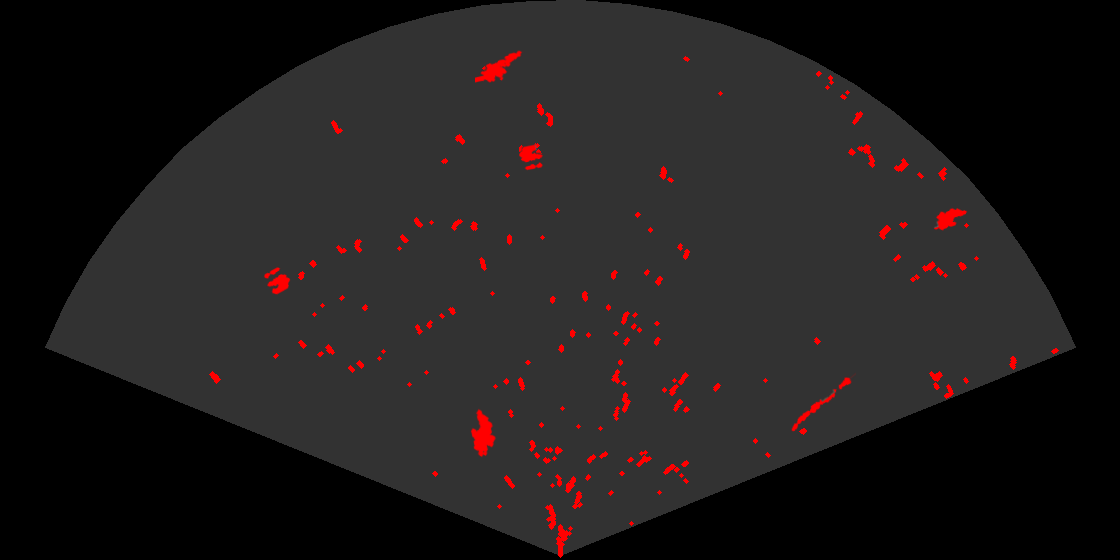AUV: (469, 407, 498, 459), (932, 206, 969, 232)
ball: (262, 266, 292, 296), (517, 143, 545, 172)
chain: (790, 371, 856, 433)
frogman: (475, 49, 525, 84)
